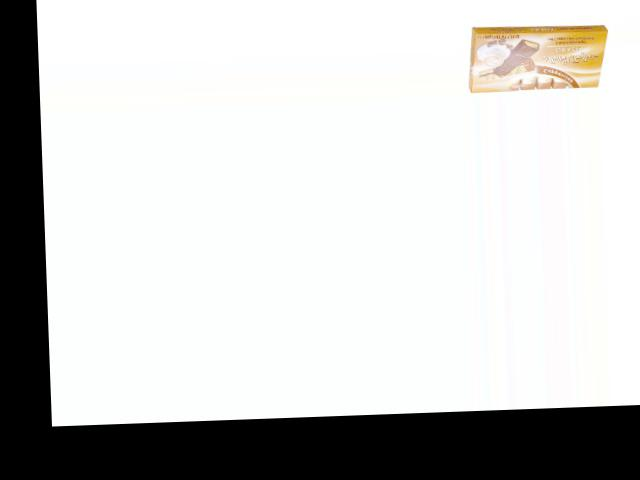chocolate: (466, 22, 612, 94)
